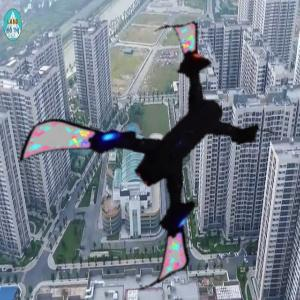drone: (45, 47, 278, 280)
